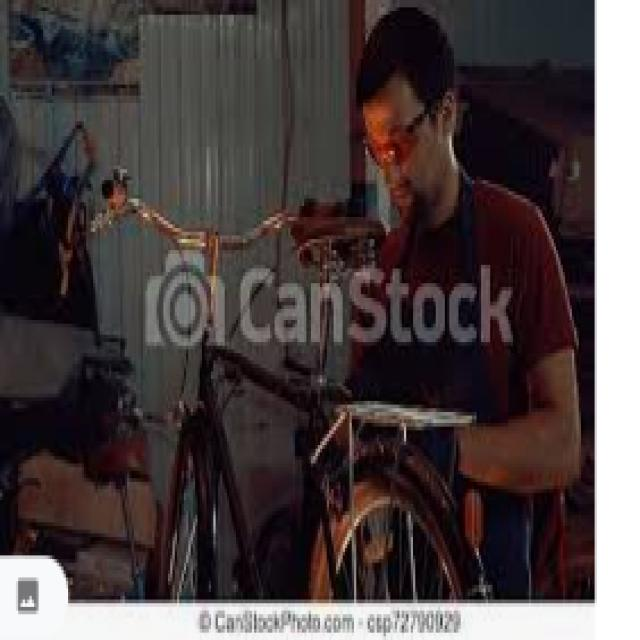glasses: (355, 98, 441, 176)
